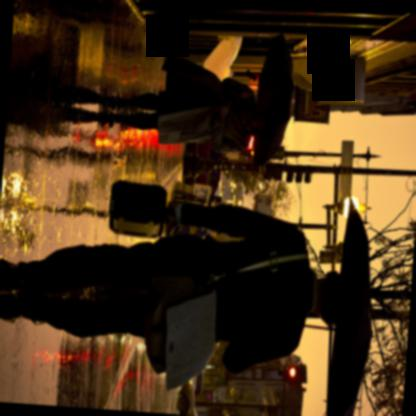handbag: (143, 253, 317, 384)
suitcase: (108, 180, 166, 238)
